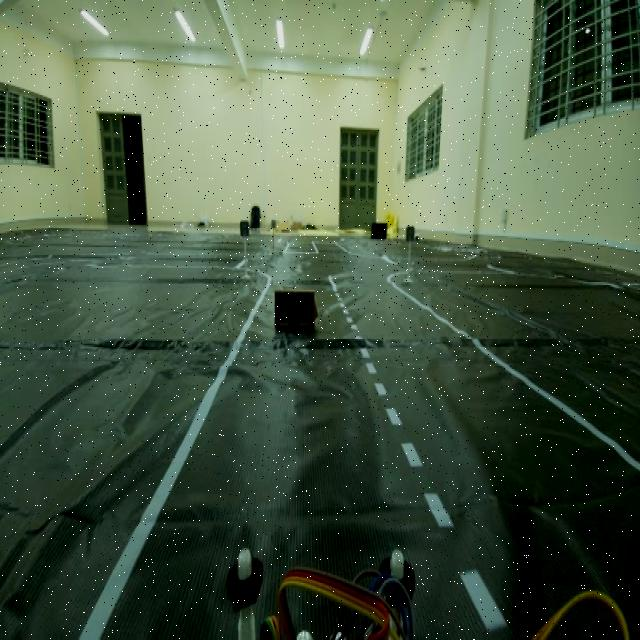roadblock: (272, 288, 318, 341)
